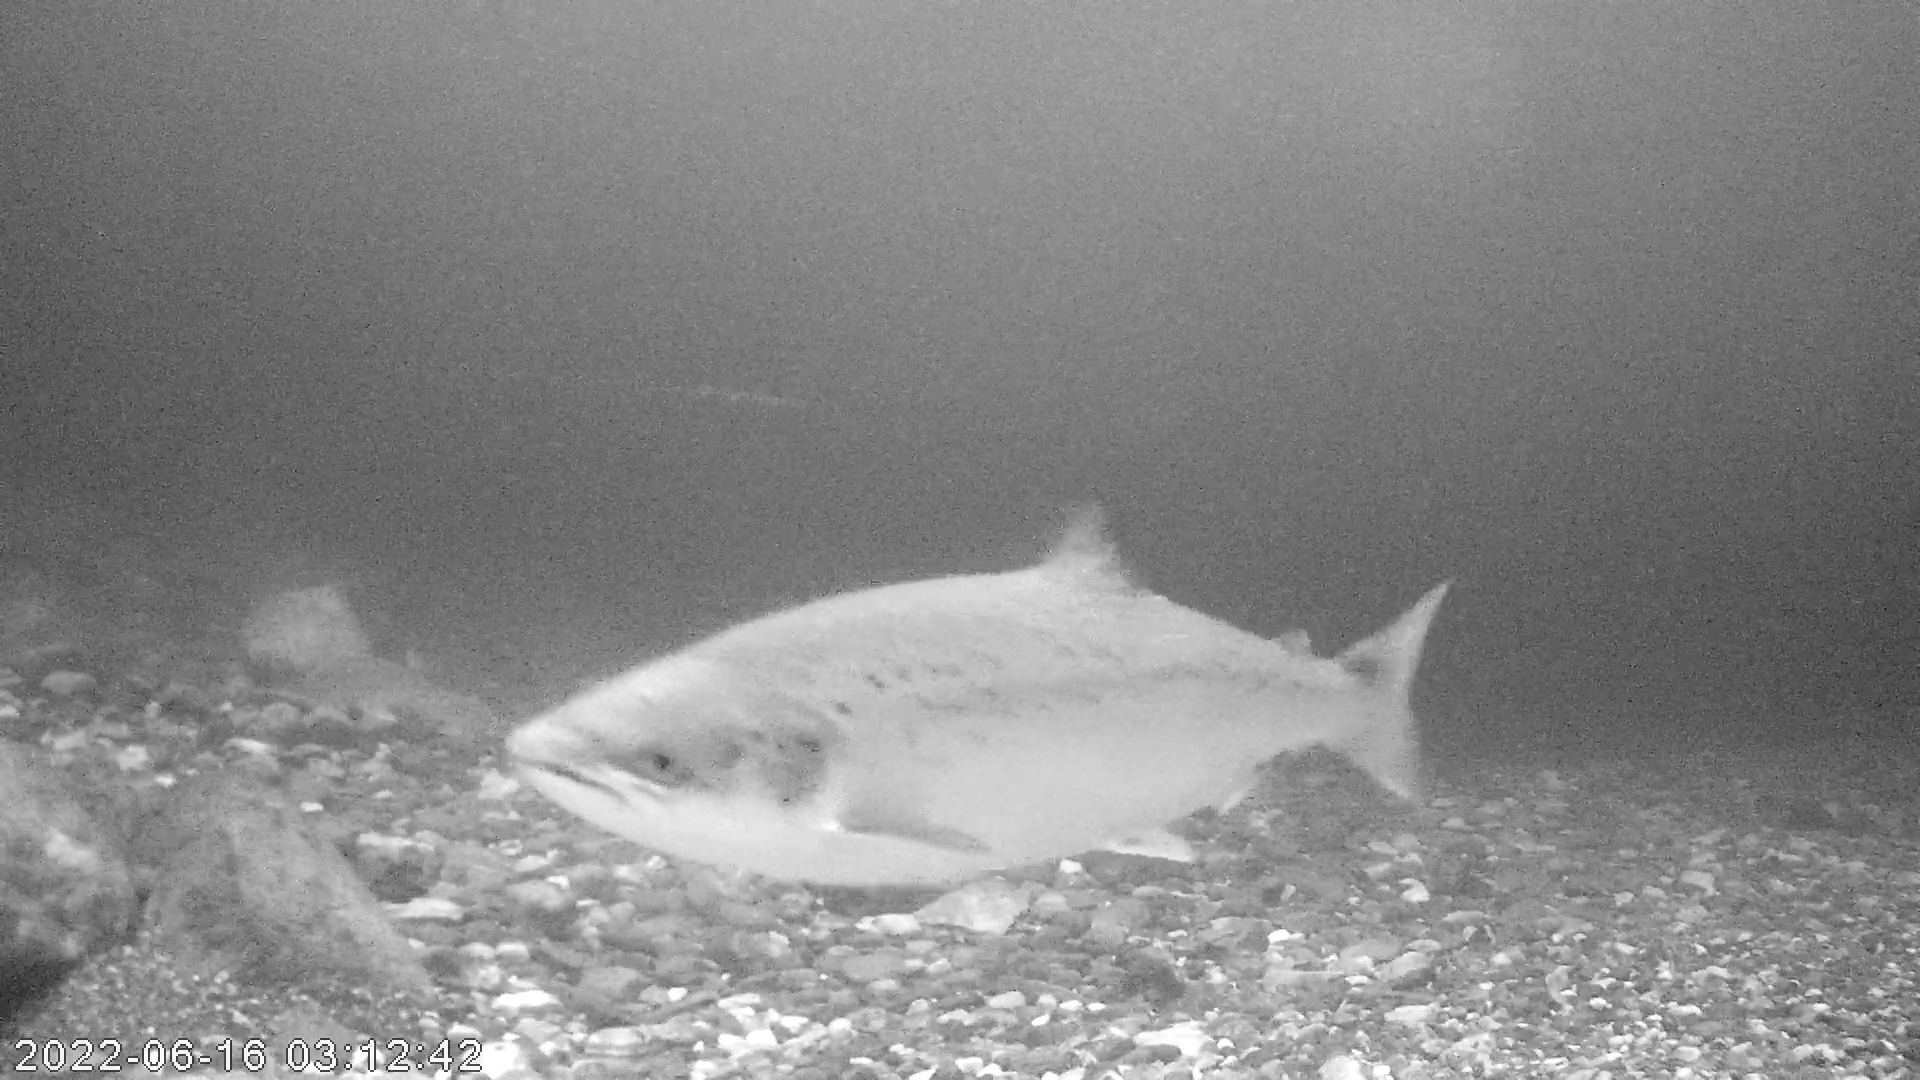salmon: (505, 493, 1449, 891)
